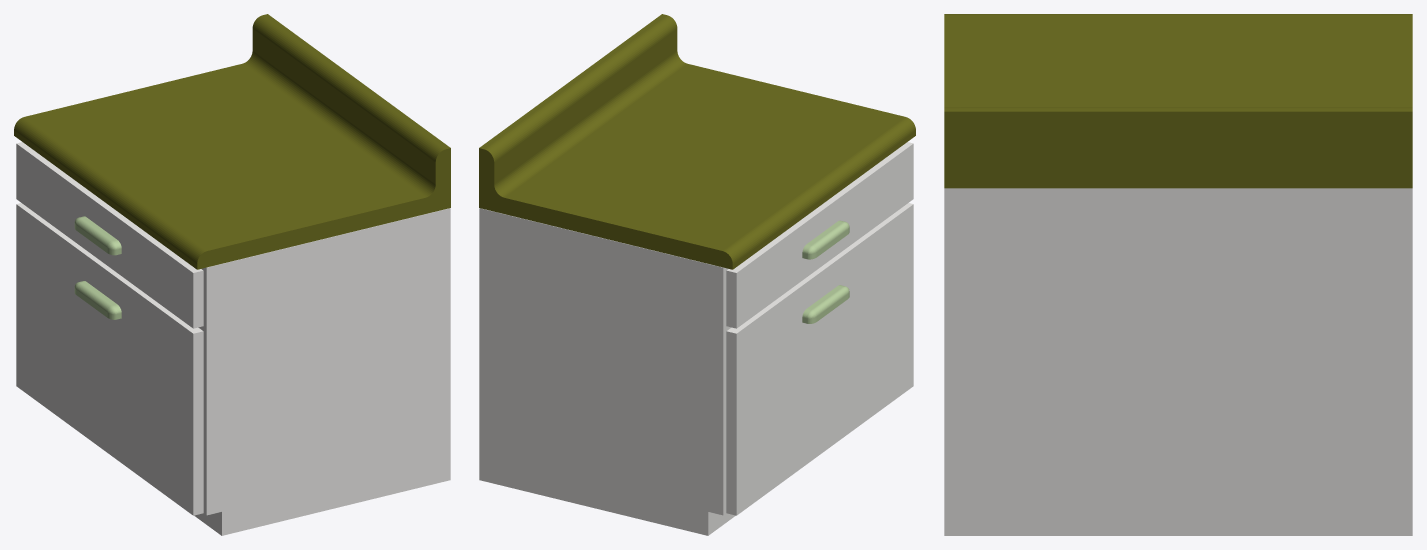
Rendered from counter2-1.fbx.
3 views of the same model, side by side, from view 1: azimuth 30°, elevation 25°; view 2: azimuth 150°, elevation 25°; view 3: azimuth 270°, elevation 25° (orthographic). The views are drawn at different scales.
Visible parts, largest first — view 1: counter-h; view 2: counter-h; view 3: counter-h.
Part boxes in pixels (x1=…): counter-h: x1=14, y1=14, x2=450, y2=535; counter-h: x1=479, y1=14, x2=915, y2=535; counter-h: x1=944, y1=14, x2=1412, y2=535.
Size of the model in its own units: 501 by 600 by 600.
